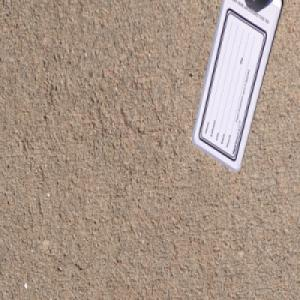LuggageTag: (191, 0, 282, 175)
